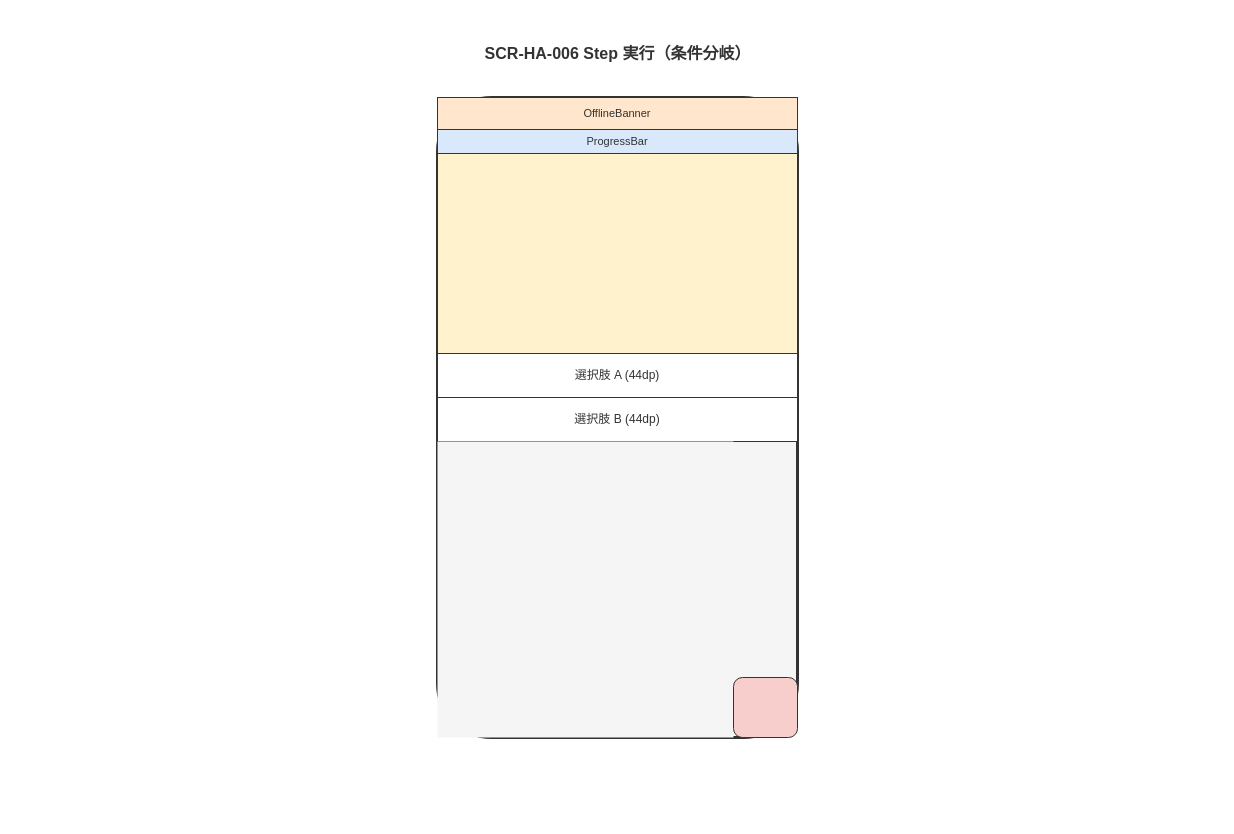
The diagram is 1234 pixels wide and 834 high, and some of its shapes have lost their labels. The shapes that lost their labels are listed below. From the top down, each one's box as (x1, y1, x2, y2) in pixels, then its label:
(436, 152, 798, 354): 条件分岐 StepCard 条件を選択
(732, 676, 798, 738): Andon (右下固定)
